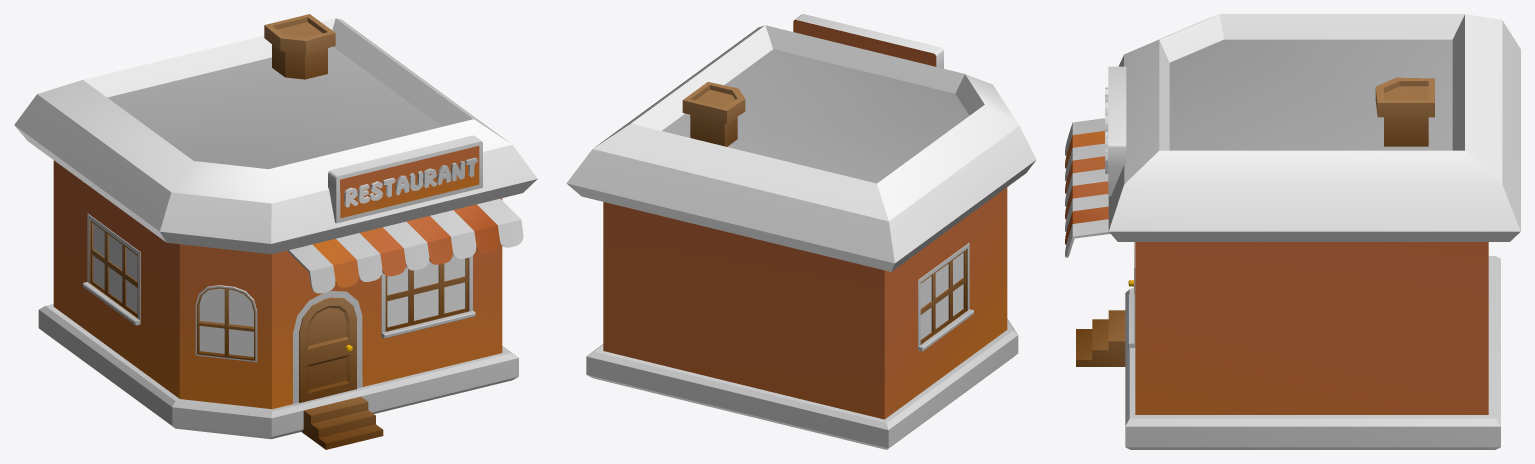
Rendered from Restaurant_2.fbx.
The picture shows the model from 3 angles, left to right: view 1: azimuth 30°, elevation 25°; view 2: azimuth 150°, elevation 25°; view 3: azimuth 270°, elevation 25°; orthographic projection. The views are drawn at different scales.
Visible parts, largest first — view 1: Restaurant_2, Restaurant_2 Door; view 2: Restaurant_2; view 3: Restaurant_2.
Part boxes in pixels (x1,y1,x2,y2): Restaurant_2: (14,14,537,449); Restaurant_2 Door: (299,297,356,402); Restaurant_2: (566,14,1036,449); Restaurant_2: (1065,14,1520,449).
Size of the model in its own units: 8.35 by 6.66 by 8.82.
